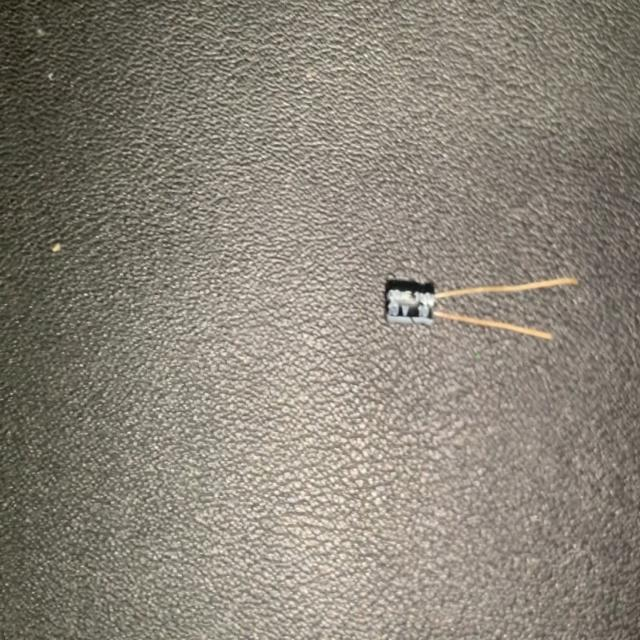capacitor: (380, 272, 581, 342)
